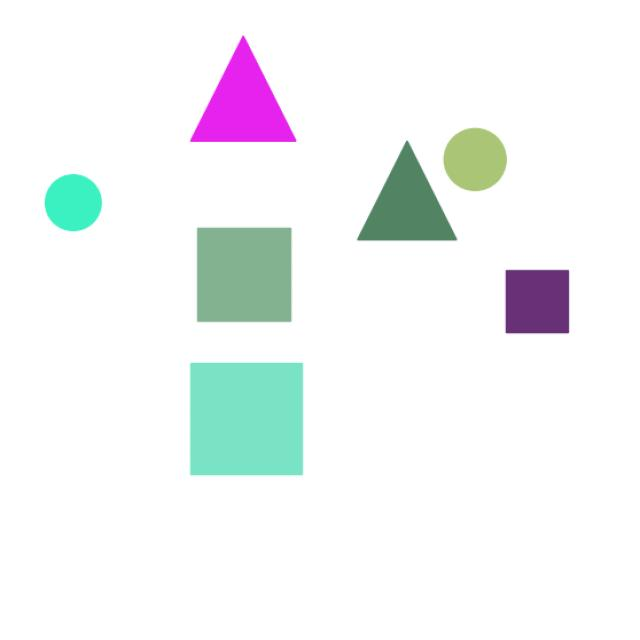Circle: (36, 172, 156, 268), (444, 114, 530, 199)
Triangle: (165, 21, 321, 169), (341, 138, 465, 256)
square: (168, 348, 325, 495), (188, 222, 311, 335), (492, 259, 576, 342)
